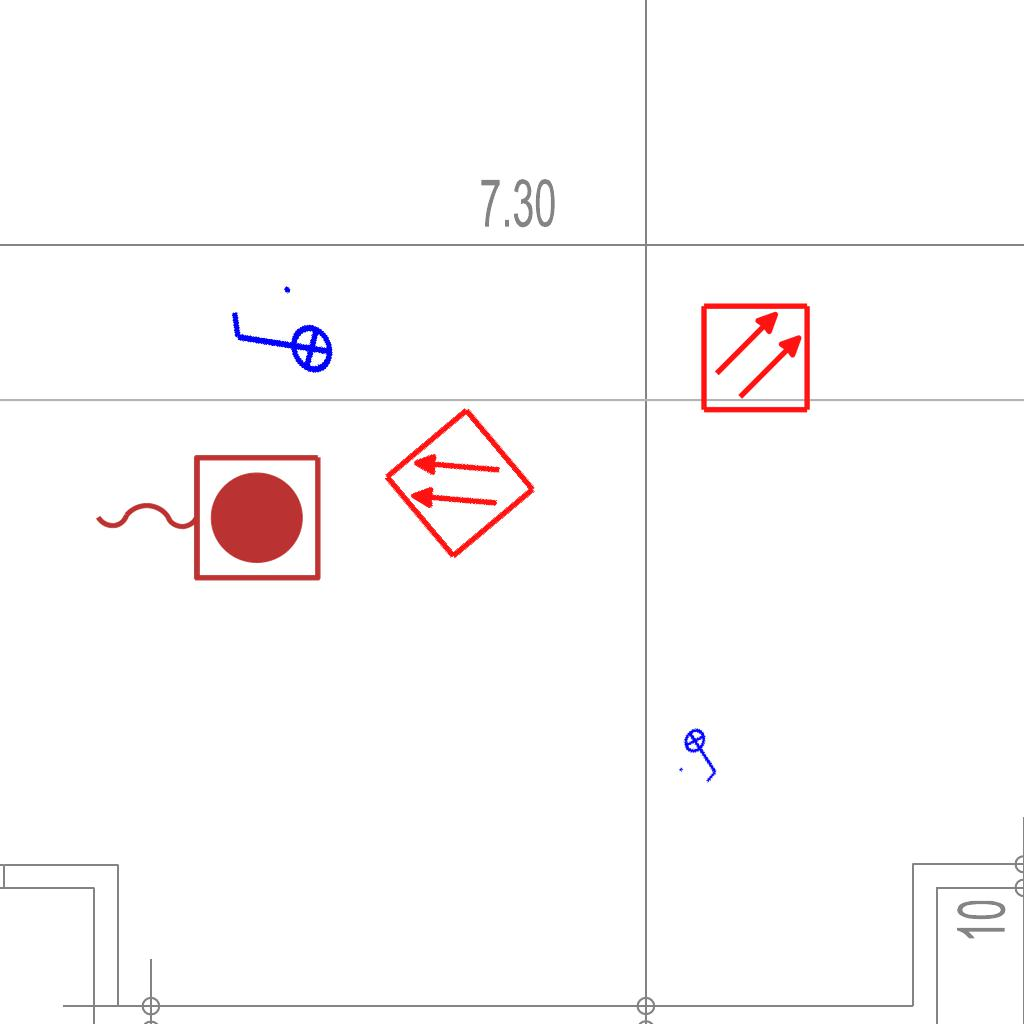Ausschalter_beleuchtet: (214, 272, 348, 414), (669, 718, 737, 790)
RMO_Rauchmelder_optischer: (379, 403, 540, 564), (699, 301, 812, 414)
Zugtaster: (85, 444, 329, 588)
